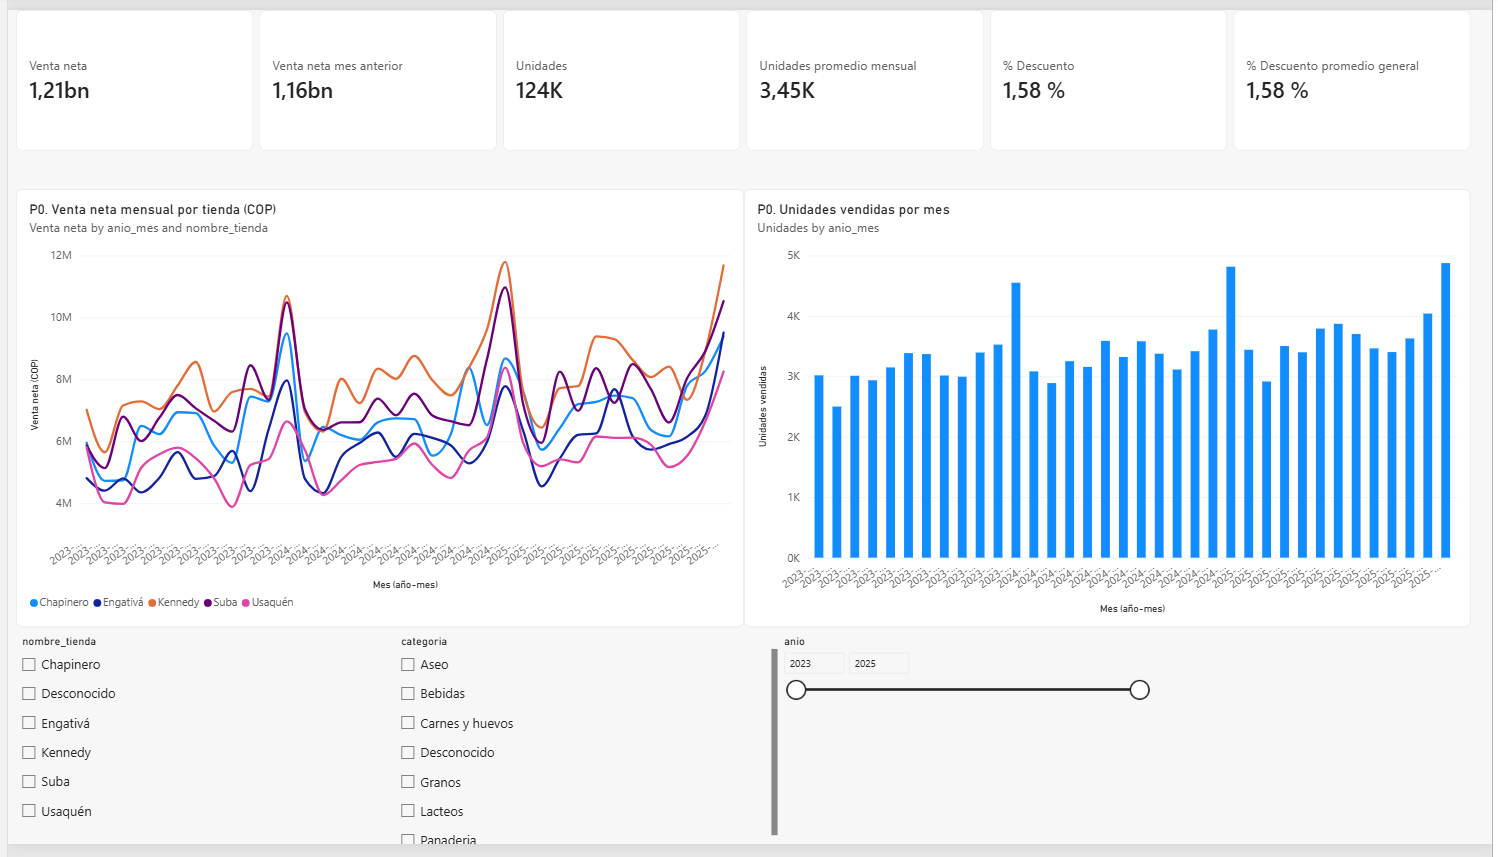

This screenshot's page, from the dashboard's own definition file:
{"tool":"powerbi","page":{"name":"Page 1","canvas":[1920,1080],"ordinal":0},"visuals":[{"type":"cardVisual","fields":{"Data":["fact_ventas.Venta neta","fact_ventas.Venta neta mes anterior","fact_ventas.Unidades","fact_ventas.Unidades promedio mensual","fact_ventas.% Descuento","fact_ventas.% Descuento promedio general"]},"box":[10.4,0,1882.5,182.4],"z":0},{"type":"lineChart","title":"P0. Venta neta mensual por tienda (COP)","fields":{"Category":["dim_fecha.anio_mes"],"Series":["dim_tienda.nombre_tienda"],"Y":["fact_ventas.Venta neta"]},"box":[10.4,231.6,941.9,566.7],"z":1},{"type":"slicer","fields":{"Values":["dim_tienda.nombre_tienda"]},"box":[9.9,808.8,491.2,271.2],"z":2},{"type":"slicer","fields":{"Values":["dim_producto.categoria"]},"box":[501.1,808.8,494.5,271.2],"z":3},{"type":"slicer","fields":{"Values":["dim_fecha.anio"]},"box":[996,809,484,271],"z":4},{"type":"clusteredColumnChart","title":"P0. Unidades vendidas por mes","fields":{"Category":["dim_fecha.anio_mes"],"Y":["fact_ventas.Unidades"]},"box":[952.2,231.6,940,567],"z":5}]}

Visuals, with their boxes in screenshot pixels (x1, y1, x2, y2), scaled from the page's 1920x1080 canvas onto the 1498x857 screenshot:
cardVisual - fact_ventas.Venta neta x fact_ventas.Venta neta mes anterior: (8, 0, 1477, 145)
"P0. Venta neta mensual por tienda (COP)" lineChart: (8, 184, 743, 633)
slicer - dim_tienda.nombre_tienda: (8, 642, 391, 856)
slicer - dim_producto.categoria: (391, 642, 777, 856)
slicer - dim_fecha.anio: (777, 642, 1155, 856)
"P0. Unidades vendidas por mes" clusteredColumnChart: (743, 184, 1476, 634)
